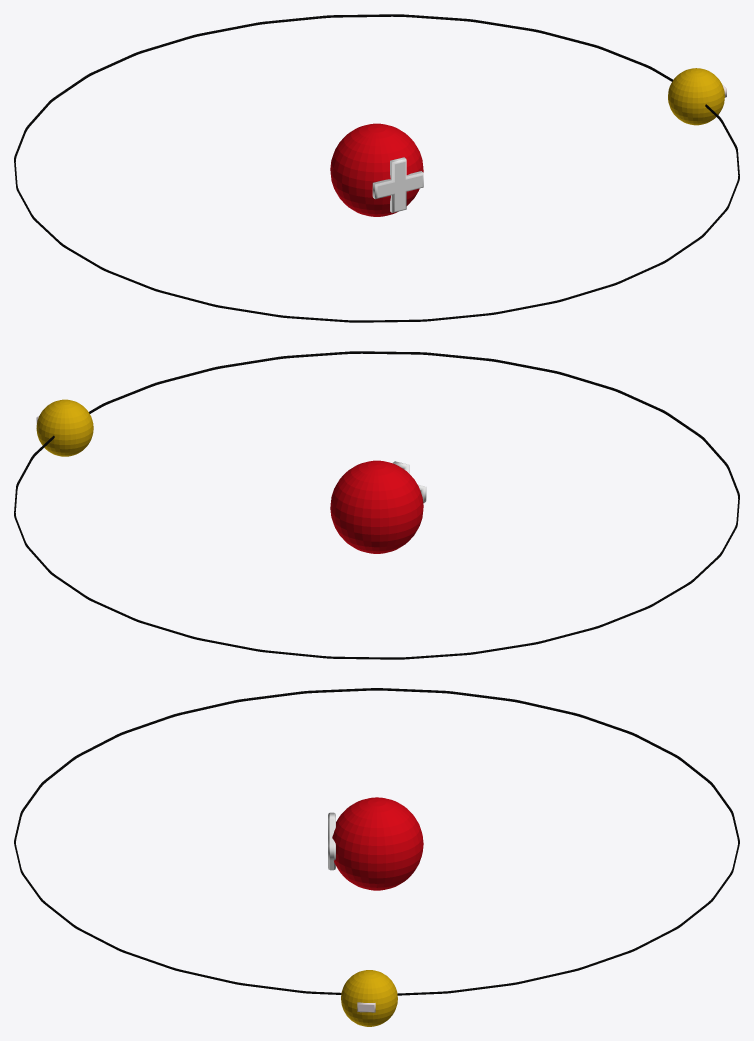
3 renders of one model, top to bottom at view 1: azimuth 30°, elevation 25°; view 2: azimuth 150°, elevation 25°; view 3: azimuth 270°, elevation 25°, orthographic.
Visible parts, largest first — view 1: Sphere, Circle, Sphere.003, Text; view 2: Sphere, Circle, Sphere.003; view 3: Sphere, Circle, Sphere.003.
Boxes of the visible parts, x1=… form: Sphere: x1=330, y1=123, x2=423, y2=216; Circle: x1=14, y1=14, x2=739, y2=322; Sphere.003: x1=668, y1=68, x2=724, y2=125; Text: x1=372, y1=157, x2=423, y2=212; Sphere: x1=330, y1=460, x2=423, y2=553; Circle: x1=14, y1=351, x2=739, y2=659; Sphere.003: x1=36, y1=399, x2=93, y2=456; Sphere: x1=332, y1=797, x2=423, y2=890; Circle: x1=14, y1=688, x2=739, y2=995; Sphere.003: x1=341, y1=970, x2=397, y2=1026.
Size of the model in its own units: 66.75 by 8.23 by 64.06.
